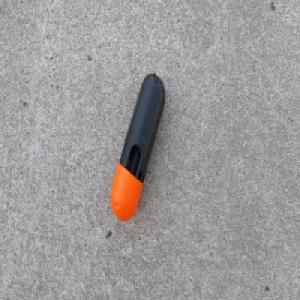PlasticPart: (108, 71, 166, 223)
